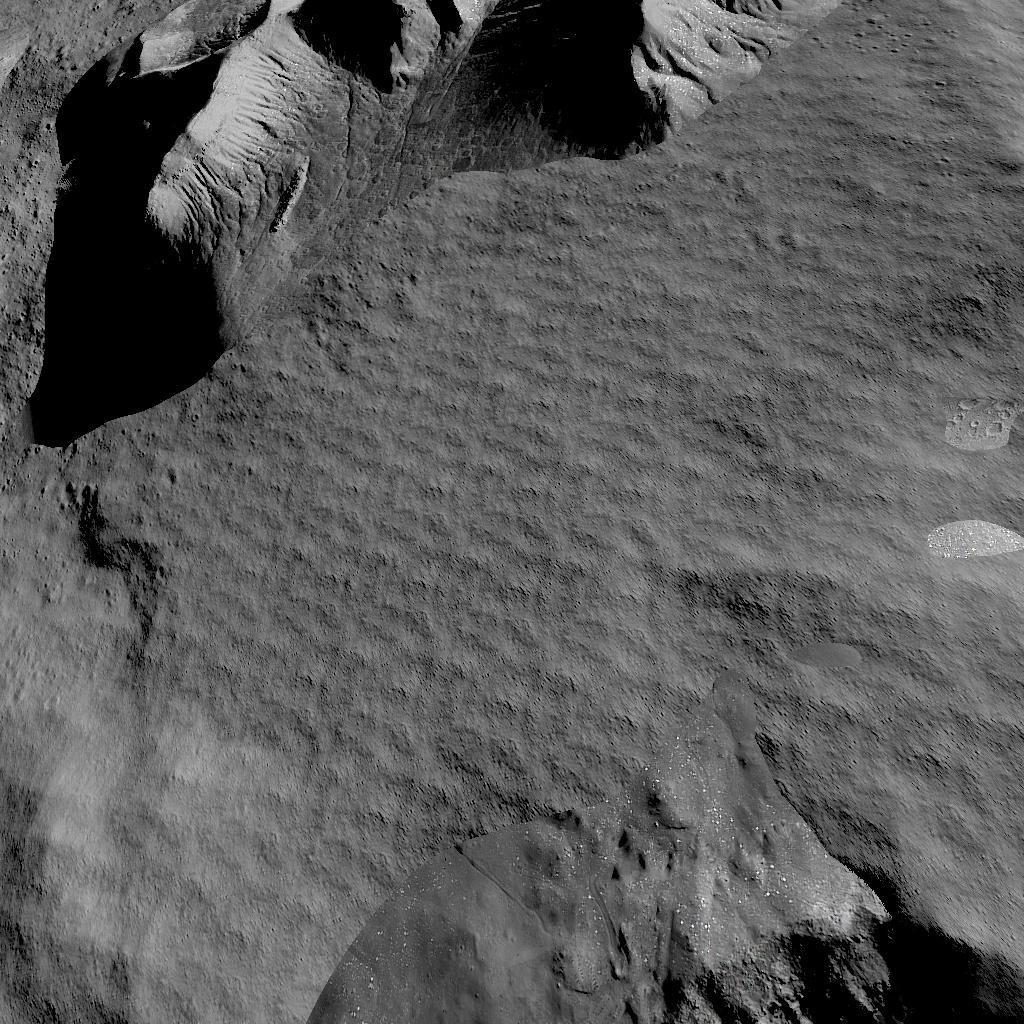Boulders: (26, 0, 845, 450)
Crater: (316, 820, 1024, 1024)
Plan surface: (0, 462, 1024, 806), (861, 0, 1024, 450), (0, 822, 303, 1024)
